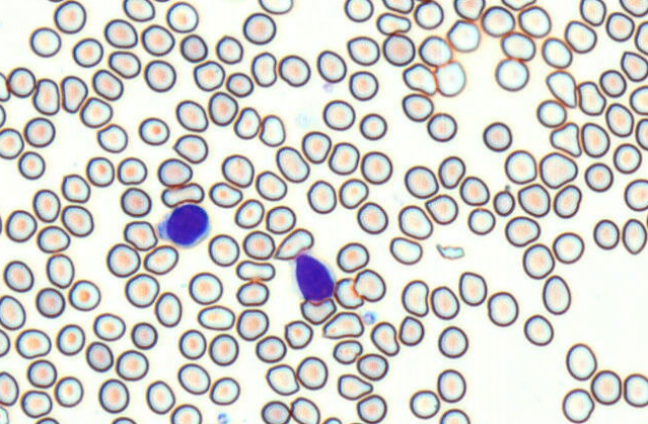LYM: (157, 202, 214, 249)
MONO: (288, 251, 338, 303)
RBC: (539, 151, 577, 188), (275, 145, 309, 183), (124, 272, 159, 307), (397, 204, 432, 239), (565, 342, 597, 380), (541, 274, 571, 314), (106, 242, 140, 277), (434, 60, 466, 97), (561, 388, 594, 423), (188, 271, 223, 304), (494, 58, 529, 91), (504, 149, 537, 184), (504, 215, 540, 247), (522, 243, 554, 279), (446, 19, 480, 52), (353, 268, 386, 302), (404, 165, 438, 198), (221, 153, 254, 187), (517, 5, 551, 38), (564, 19, 597, 53), (60, 204, 94, 237), (517, 183, 550, 217), (296, 355, 328, 390), (590, 369, 621, 405), (236, 308, 269, 341), (382, 33, 415, 66), (177, 362, 210, 395), (143, 59, 176, 92), (175, 99, 208, 132), (53, 0, 86, 33), (140, 24, 174, 56), (360, 150, 392, 184), (481, 5, 515, 37), (165, 1, 199, 33), (242, 12, 276, 44), (143, 244, 178, 275), (207, 91, 238, 126), (98, 378, 129, 413), (487, 291, 518, 326), (500, 30, 535, 61), (15, 328, 51, 358), (60, 75, 88, 113), (32, 77, 60, 115), (356, 201, 388, 234), (336, 241, 369, 273), (5, 209, 37, 242), (115, 349, 148, 381), (79, 96, 112, 128), (68, 279, 101, 311), (552, 231, 584, 264), (424, 193, 458, 224), (328, 141, 359, 175), (157, 157, 192, 187), (173, 133, 208, 163), (581, 121, 610, 157), (193, 59, 225, 91), (278, 54, 310, 86), (91, 68, 123, 100), (242, 229, 275, 260), (418, 35, 451, 66), (208, 233, 239, 266), (437, 325, 468, 358), (322, 99, 355, 130), (3, 259, 34, 292), (306, 179, 336, 213), (145, 380, 175, 414), (123, 220, 157, 250), (103, 18, 137, 48), (316, 49, 346, 83), (436, 368, 466, 402), (45, 253, 74, 288), (458, 271, 487, 306), (605, 102, 634, 137), (154, 291, 182, 327), (255, 170, 287, 201), (541, 36, 572, 68), (29, 26, 61, 57), (23, 116, 55, 147), (208, 333, 238, 366), (301, 130, 331, 163), (346, 35, 379, 65), (197, 304, 235, 330), (430, 285, 459, 319), (250, 51, 277, 87), (120, 186, 151, 217), (338, 177, 368, 209), (523, 314, 553, 346), (53, 375, 83, 407), (96, 123, 128, 153), (389, 236, 422, 265), (437, 155, 465, 189), (553, 184, 581, 218), (36, 225, 70, 253), (32, 188, 60, 222), (621, 218, 647, 254), (409, 389, 440, 419), (35, 287, 65, 318), (356, 393, 387, 423), (459, 175, 489, 206), (426, 112, 457, 142), (348, 70, 378, 101), (72, 37, 103, 67), (93, 312, 125, 341), (20, 389, 52, 418), (56, 323, 85, 355), (356, 352, 388, 381), (401, 92, 433, 121), (613, 142, 642, 174), (233, 106, 261, 139), (108, 50, 141, 78), (234, 198, 264, 228), (0, 294, 25, 330), (482, 121, 512, 151), (209, 376, 240, 405), (26, 359, 57, 388), (116, 156, 147, 185), (7, 66, 36, 97), (138, 116, 169, 145), (85, 156, 114, 187), (236, 279, 269, 306), (61, 173, 90, 203), (413, 0, 443, 29), (284, 319, 313, 349), (605, 11, 634, 41), (536, 99, 566, 128), (584, 162, 613, 192), (255, 335, 286, 363), (265, 205, 296, 233), (85, 341, 113, 372), (258, 114, 285, 146), (592, 218, 619, 250), (215, 34, 243, 64), (178, 329, 206, 359), (289, 396, 320, 423), (623, 373, 647, 407), (179, 33, 207, 62), (17, 150, 45, 179), (467, 207, 495, 235), (359, 112, 387, 140), (0, 127, 24, 159), (624, 178, 647, 211), (130, 321, 157, 349), (599, 69, 626, 97), (332, 339, 362, 364), (225, 71, 253, 97), (579, 0, 606, 26), (122, 0, 155, 21), (260, 400, 290, 423), (0, 371, 19, 406), (343, 0, 373, 22), (492, 188, 515, 216), (170, 403, 202, 423), (453, 0, 484, 20), (629, 84, 647, 115), (258, 0, 293, 14), (619, 0, 647, 17), (439, 408, 470, 423), (634, 20, 647, 55), (382, 0, 414, 13), (635, 117, 647, 150), (501, 0, 536, 10), (0, 71, 10, 101), (0, 329, 10, 357), (110, 416, 136, 423), (34, 416, 59, 423), (0, 405, 9, 423), (321, 416, 342, 423), (0, 103, 6, 127), (0, 213, 3, 236), (45, 0, 65, 3)
Schistocyte: (549, 122, 586, 159), (546, 70, 580, 109), (276, 228, 314, 260), (160, 183, 206, 208), (321, 312, 365, 338), (370, 322, 403, 356), (403, 63, 437, 96), (576, 80, 607, 116), (402, 277, 429, 318), (333, 277, 365, 309), (300, 299, 337, 325), (338, 374, 375, 400), (235, 260, 277, 282), (620, 50, 648, 83), (208, 182, 243, 208), (376, 12, 412, 37), (398, 315, 424, 347), (435, 243, 466, 261)
